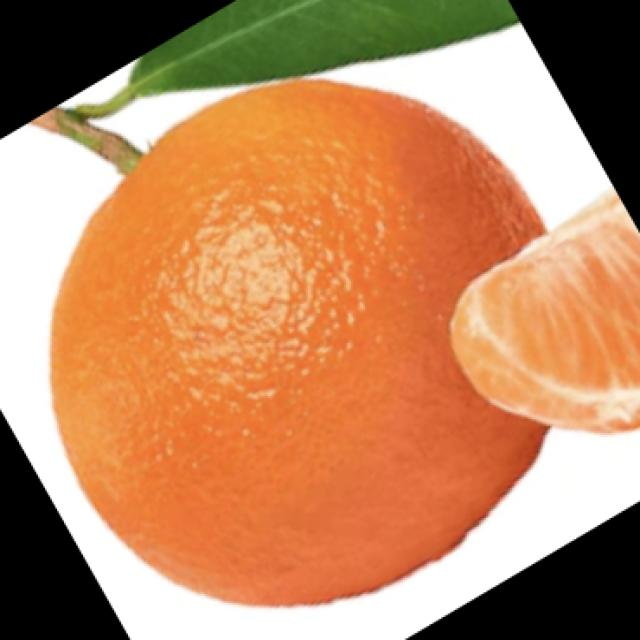matang: (53, 88, 551, 604), (448, 193, 638, 434)
